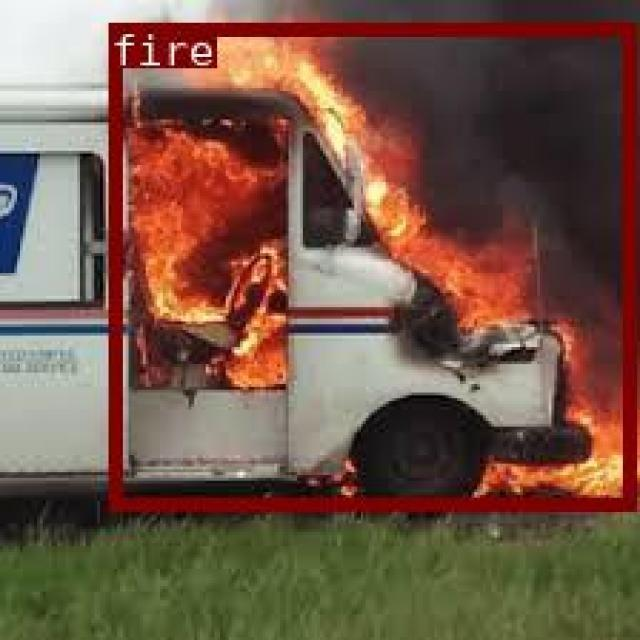fire: (106, 22, 633, 507)
